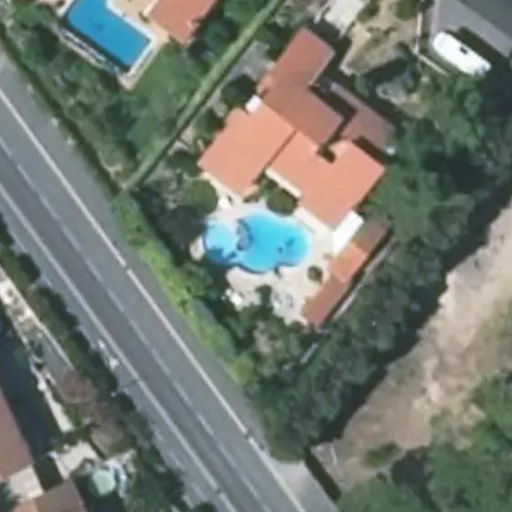pool: (198, 203, 312, 280), (62, 3, 154, 78)
